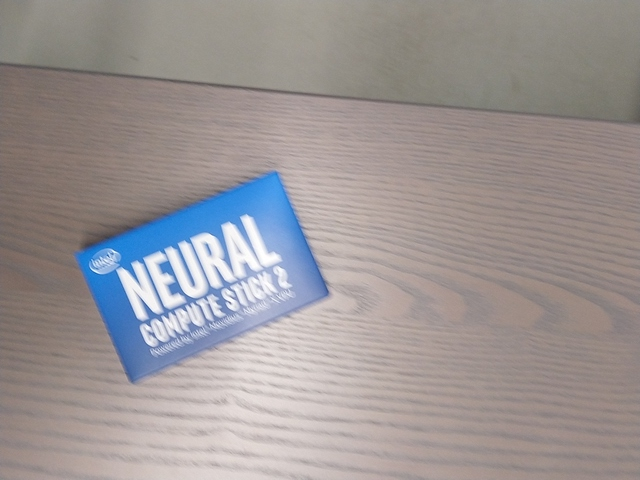box: (72, 168, 332, 385)
